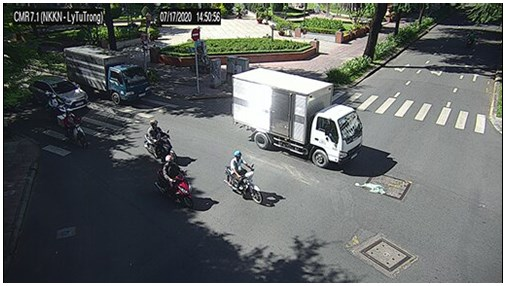xe_hoi: (29, 75, 90, 111)
xe_may: (155, 155, 195, 207), (224, 152, 263, 204), (144, 119, 177, 163), (58, 112, 90, 150)
xe_tai: (231, 67, 363, 168), (64, 45, 151, 106)
